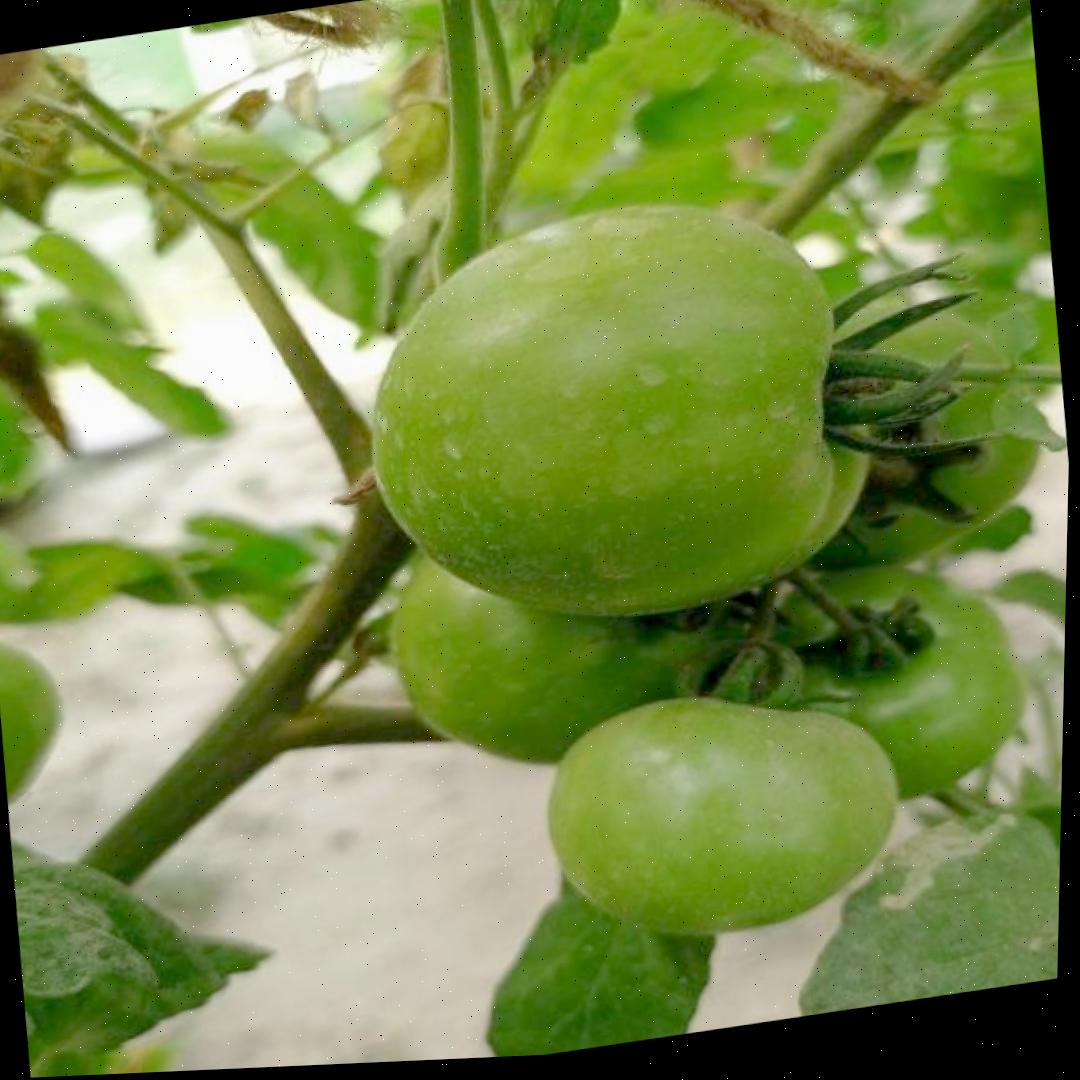mentah: (343, 164, 901, 659), (529, 662, 915, 957)
